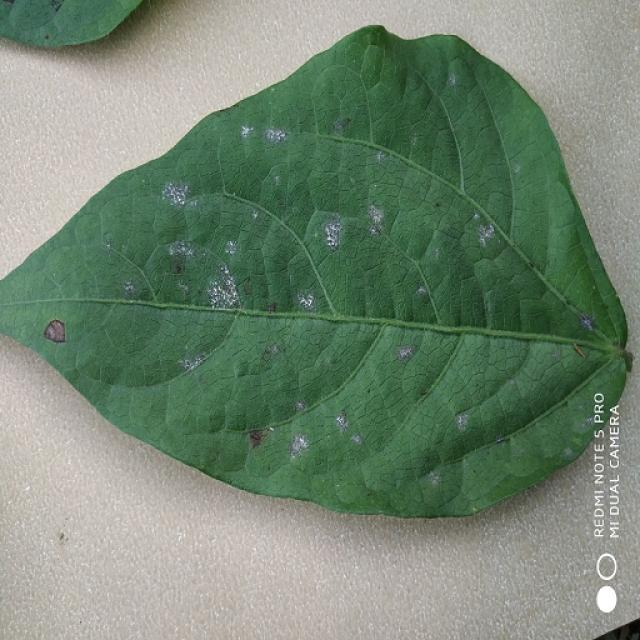Blackgram: (0, 26, 630, 515)
Powdery_Mildew: (209, 264, 240, 308), (163, 181, 190, 205), (168, 239, 195, 261), (324, 221, 341, 248), (296, 290, 316, 311), (263, 126, 286, 144), (289, 434, 308, 455), (122, 280, 143, 299), (183, 354, 204, 372), (367, 204, 384, 226), (478, 224, 495, 245), (579, 314, 596, 332), (396, 346, 414, 361), (335, 416, 350, 433), (225, 240, 238, 255), (457, 413, 469, 429), (241, 125, 255, 138), (369, 225, 381, 236), (351, 434, 362, 445)
